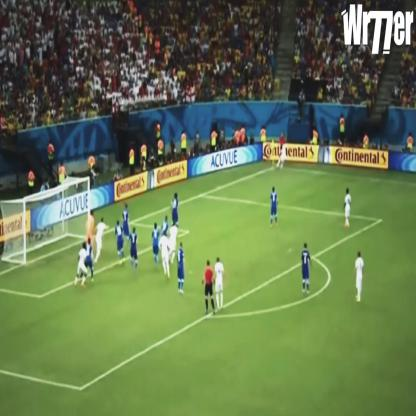corner kick: (248, 109, 305, 206)
